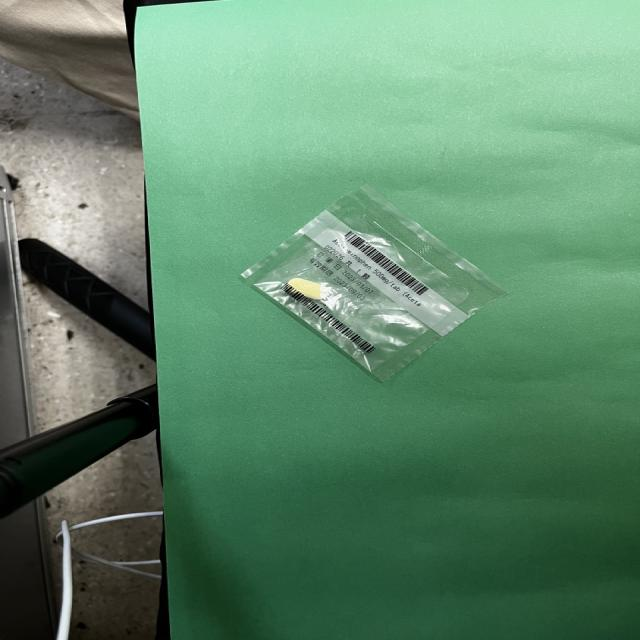Other Objects: (241, 188, 505, 382)
